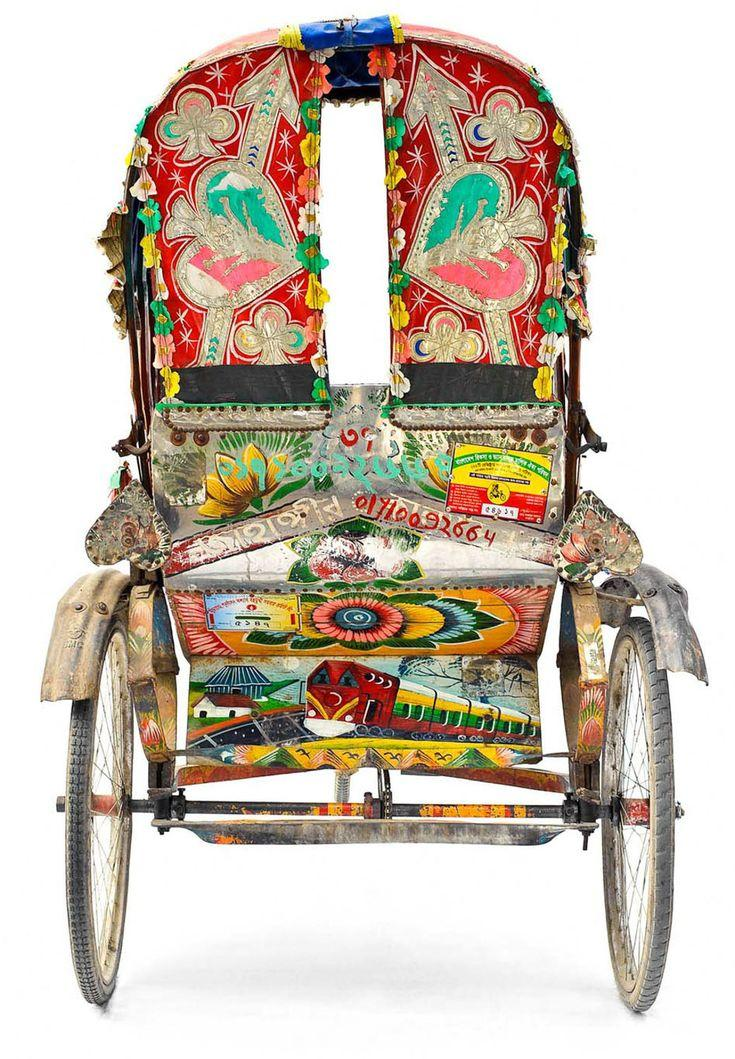Rickshaw: (43, 17, 705, 1010)
